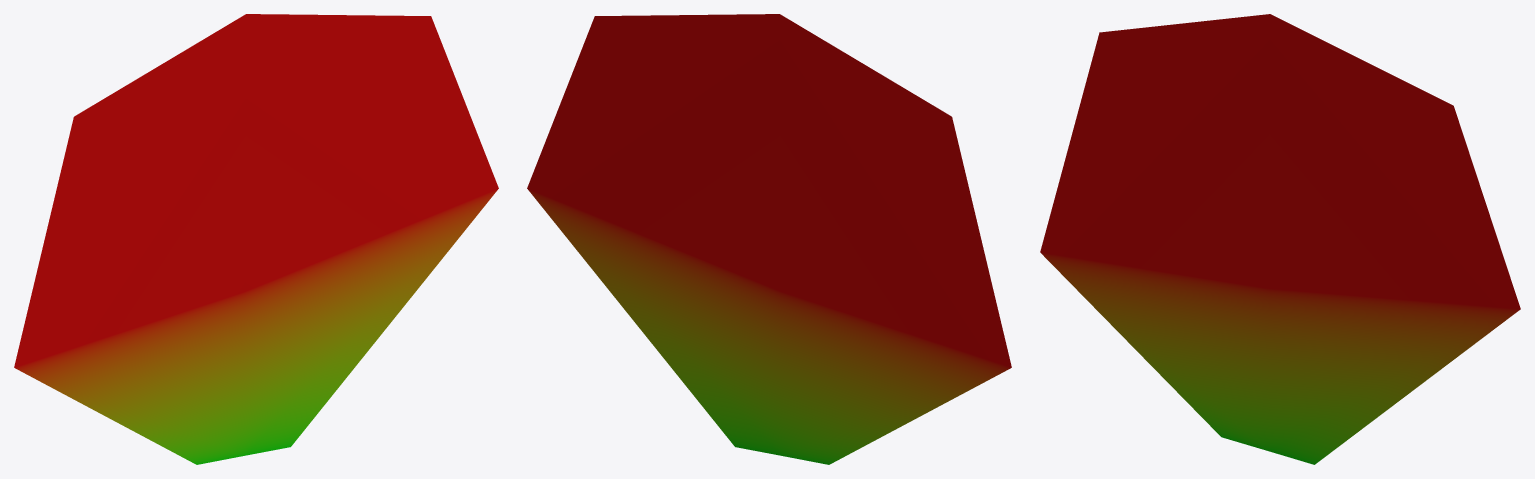
The model's file is Black Locust_LOD4_Var13.fbx.
The picture shows the model from 3 angles, left to right: view 1: azimuth 30°, elevation 25°; view 2: azimuth 150°, elevation 25°; view 3: azimuth 330°, elevation 25°; orthographic projection.
Parts seen in each view (by area): view 1: _q4id_Var13_LOD4; view 2: _q4id_Var13_LOD4; view 3: _q4id_Var13_LOD4.
Part boxes in pixels (bbox=[...]): _q4id_Var13_LOD4: bbox=[14, 14, 498, 464]; _q4id_Var13_LOD4: bbox=[527, 14, 1011, 464]; _q4id_Var13_LOD4: bbox=[1040, 14, 1520, 464].
Size of the model in its own units: 56.82 by 49.71 by 9.46e-11.
